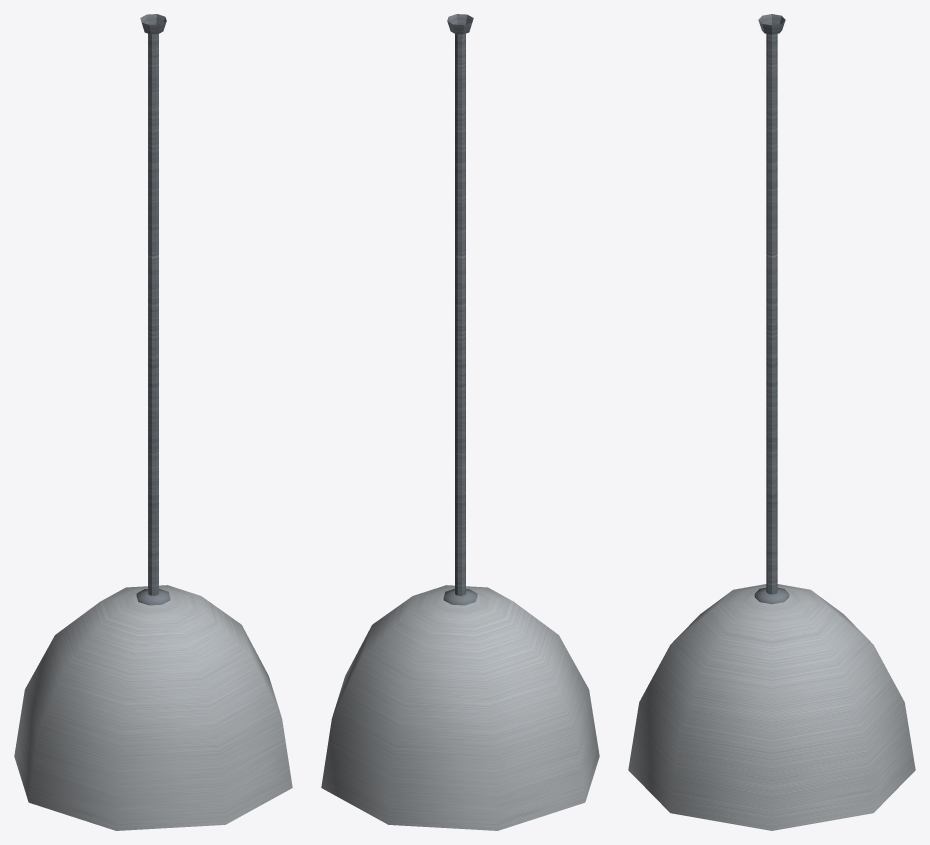
Rendered from Lustre do Balcao.FBX.
3 views of the same model, side by side, from view 1: azimuth 30°, elevation 25°; view 2: azimuth 150°, elevation 25°; view 3: azimuth 270°, elevation 25° (orthographic).
Parts seen in each view (by area): view 1: Lampada Balcao Lustre, Lampada Balcao Cabo; view 2: Lampada Balcao Lustre, Lampada Balcao Cabo; view 3: Lampada Balcao Lustre, Lampada Balcao Cabo.
Boxes of the visible parts, box(x1,y1,x2,y2) form: Lampada Balcao Lustre: box(14, 585, 292, 830); Lampada Balcao Cabo: box(136, 14, 170, 605); Lampada Balcao Lustre: box(321, 585, 599, 830); Lampada Balcao Cabo: box(443, 14, 477, 605); Lampada Balcao Lustre: box(628, 584, 915, 830); Lampada Balcao Cabo: box(754, 14, 789, 604).
Bounding box in the file's own units: 47.24 × 136 × 47.24.
